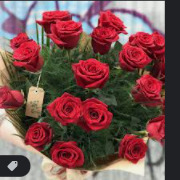RedRose: (10, 40, 52, 73), (70, 58, 113, 90), (132, 74, 167, 106), (50, 140, 94, 164), (44, 21, 84, 47), (83, 98, 113, 132), (52, 96, 84, 127), (36, 8, 77, 32), (23, 120, 53, 150), (142, 116, 175, 142), (115, 45, 150, 69), (117, 134, 152, 158), (0, 87, 27, 114), (88, 28, 116, 53), (133, 29, 165, 50), (96, 17, 128, 34)
